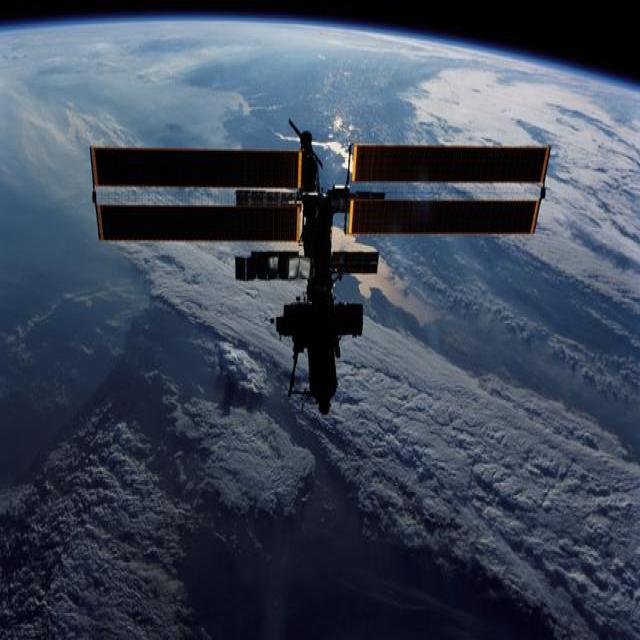medium_debris: (90, 121, 550, 412)
